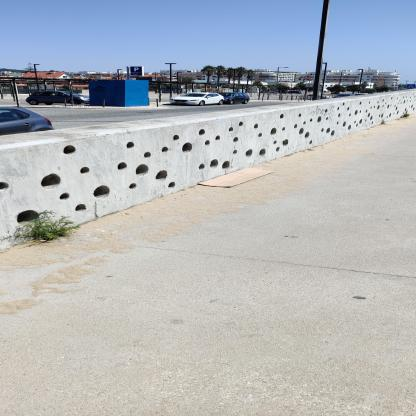karton: (198, 169, 278, 189)
